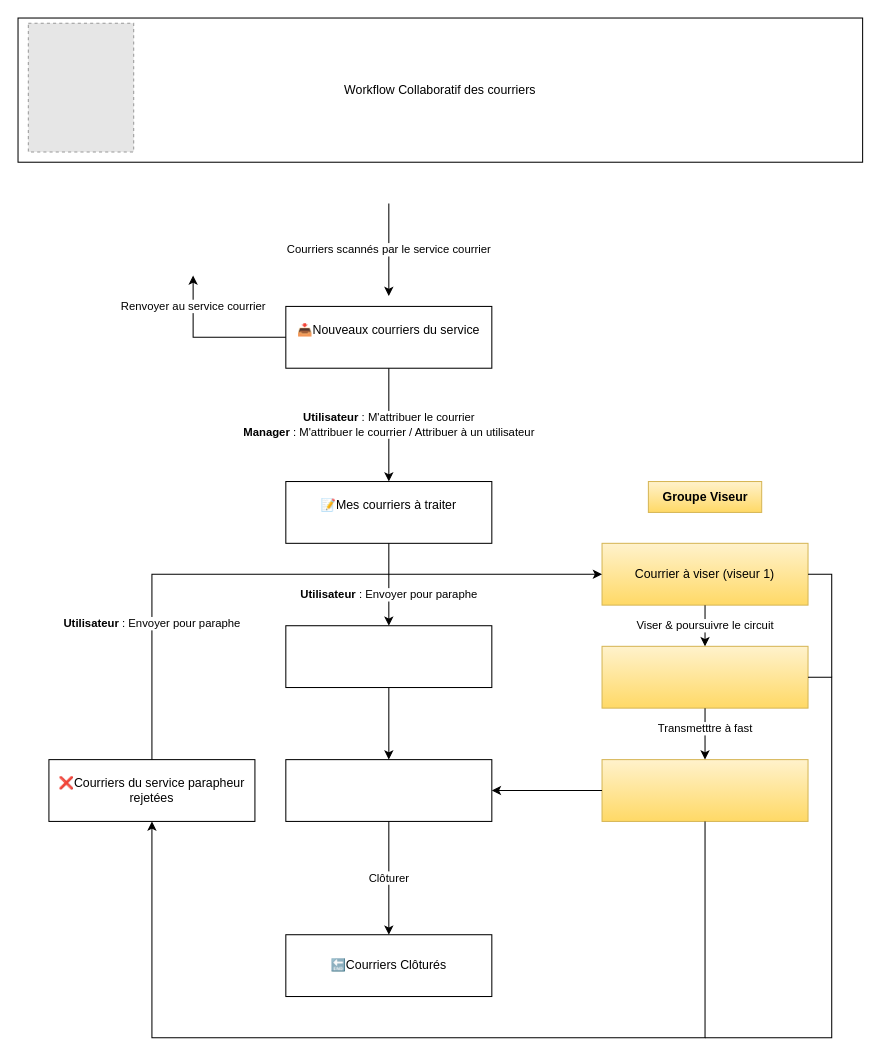
This 881x1064 diagram has some shape labels left out. Grey dashed boxes stand in for pictures. The centre of each missing label's shape, as x and y in pixels:
"Courrier à viser (viseur 2)" belongs at (704,676).
"FAST pour signature" belongs at (704,790).
"✅Courriers du service signées" belongs at (388,790).
"🖋 Courriers du service en cours de signature" belongs at (388,656).
